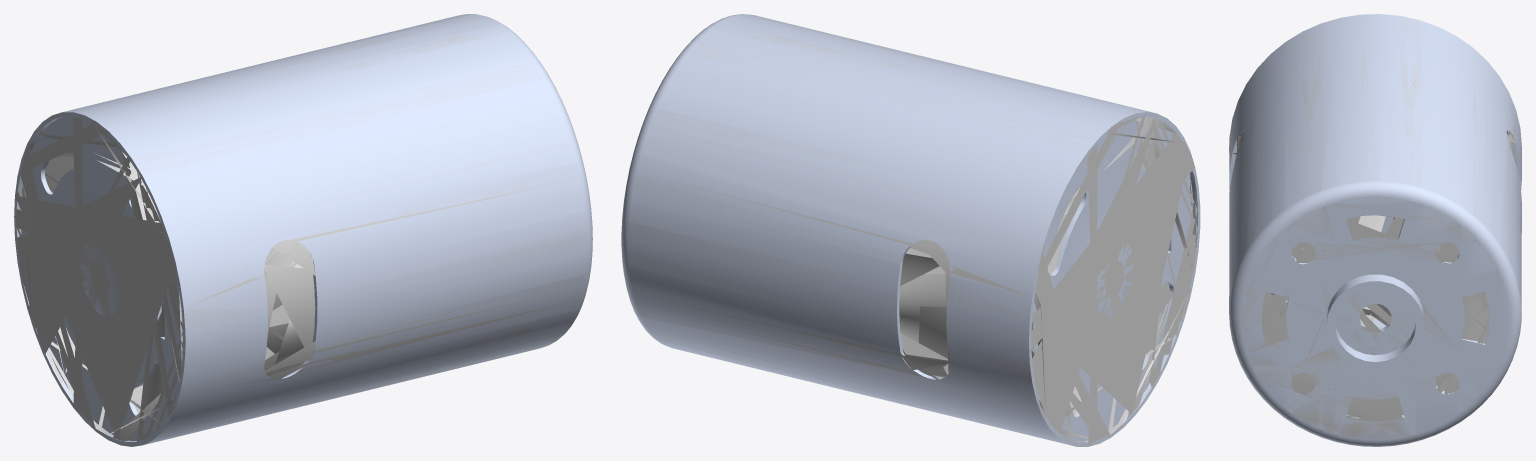
File: Motor_JGB37_545__Motor_body_1_3.dae
3 renders of one model, left to right at view 1: azimuth 30°, elevation 25°; view 2: azimuth 150°, elevation 25°; view 3: azimuth 270°, elevation 25°, orthographic. The views are drawn at different scales.
Visible parts, largest first — view 1: node0, node1; view 2: node0, node1; view 3: node0, node1.
Boxes of the visible parts, x1,y1,x2,y2 form: node0: (14,14,592,446); node1: (14,15,585,441); node0: (621,14,1200,446); node1: (629,16,1197,446); node0: (1229,14,1521,446); node1: (1229,17,1521,439).
Size of the model in its own units: 0.052 by 0.036 by 0.036.
